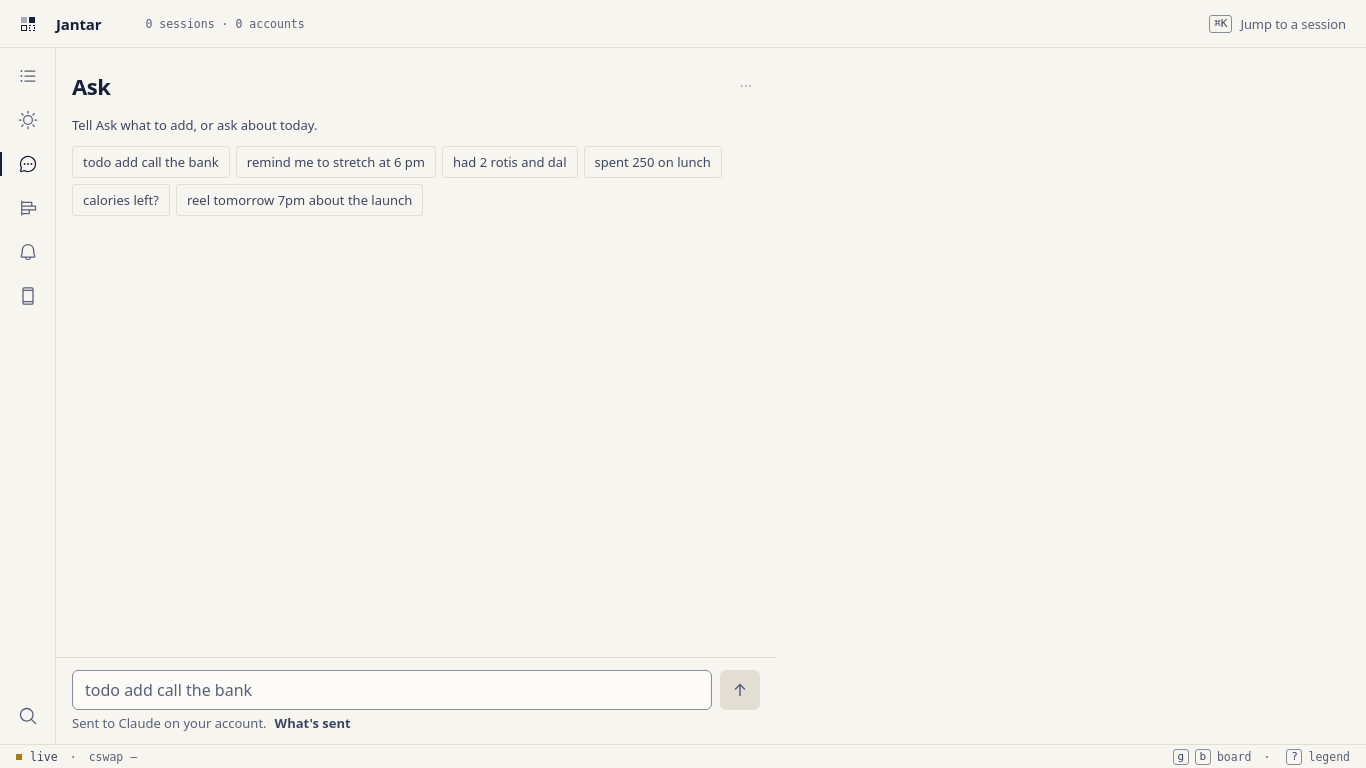
the page › empty: one line and six examples that fill the box without sending
Click the button "spent 250 on lunch" at {"x": 653, "y": 162}, box left=584, top=146, right=722, bottom=178
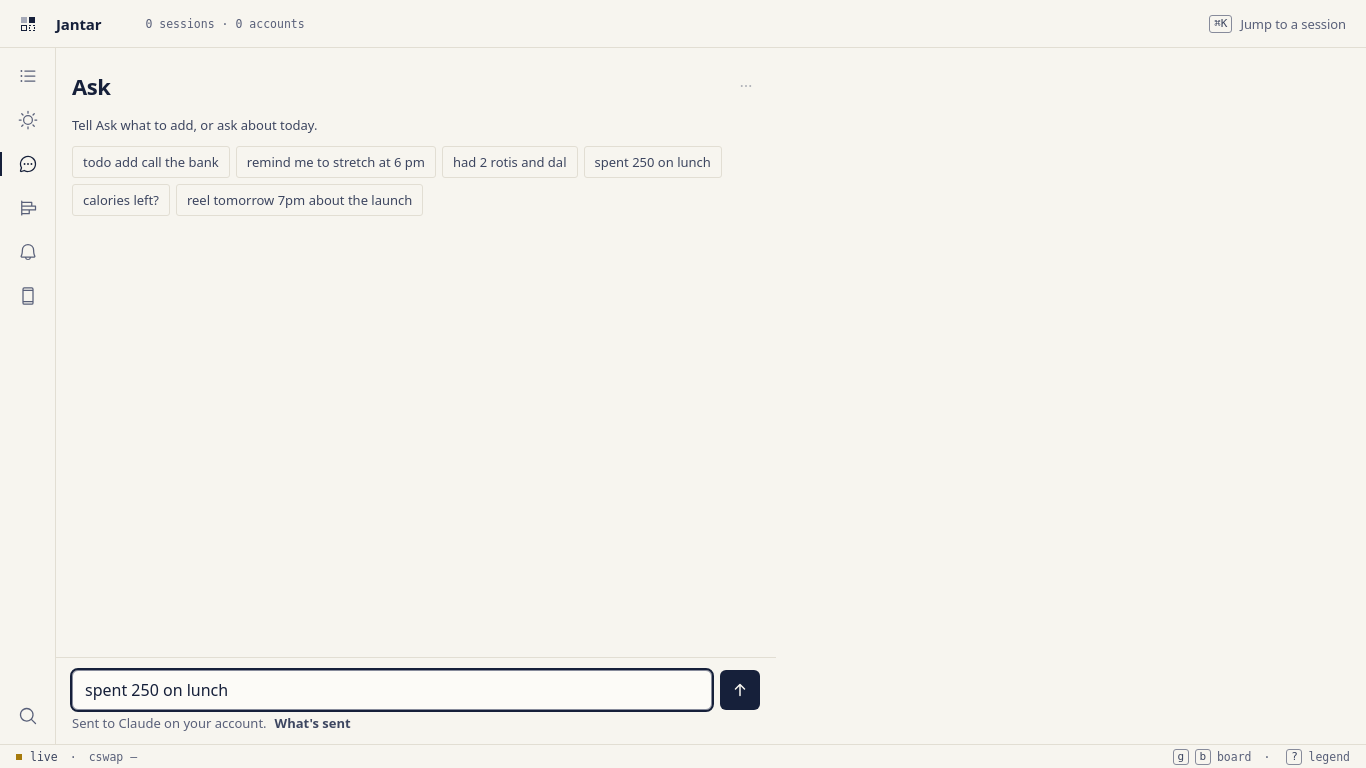
Now the text box named "What to add, or a question about today" holds "spent 250 on lunch", box left=72, top=670, right=712, bottom=710
